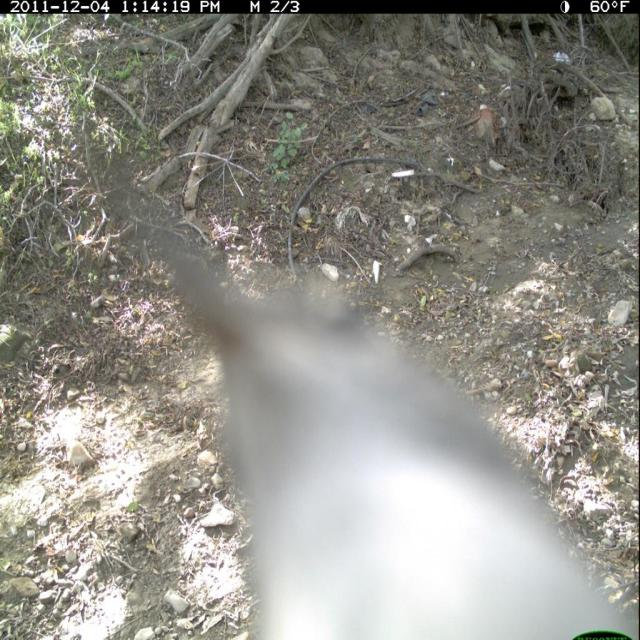bird: (108, 158, 638, 640)
